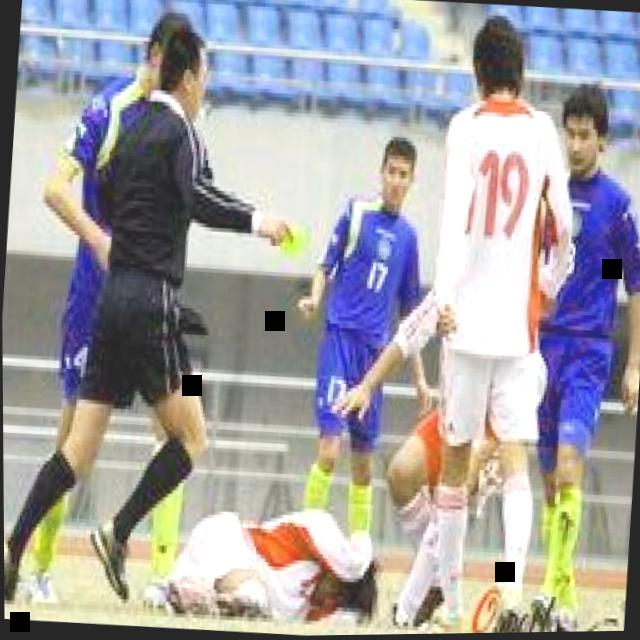Fall-Detected: (140, 467, 391, 635)
